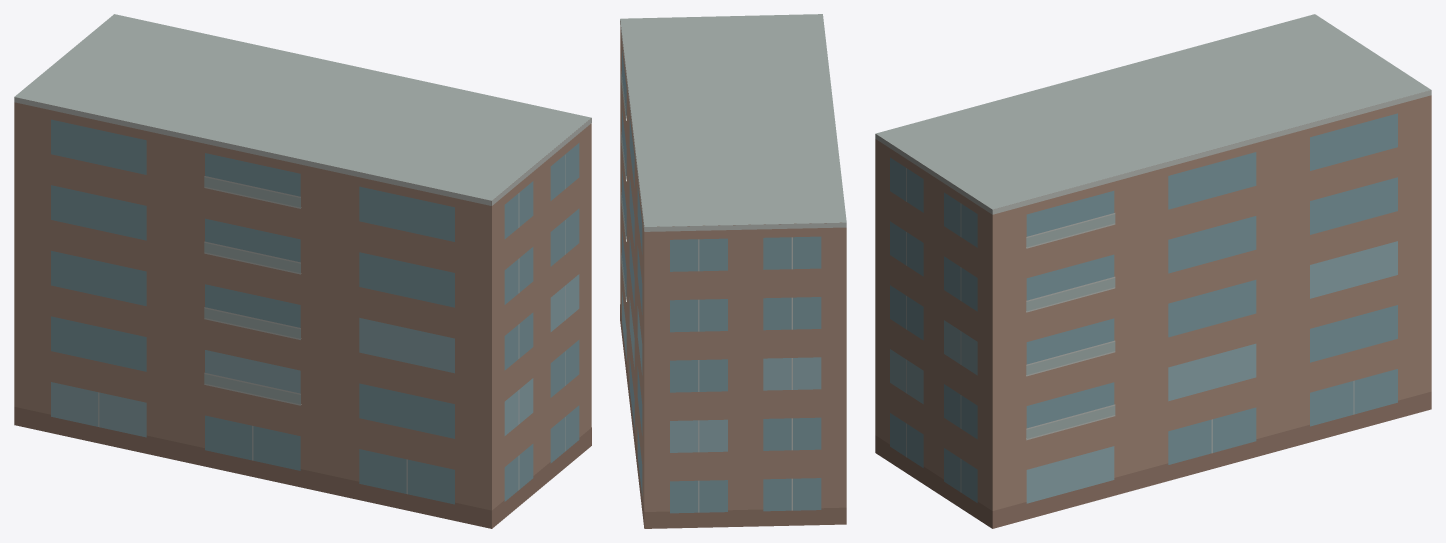
File: survey-upis-32729918.glb
3 renders of one model, left to right at view 1: azimuth 30°, elevation 25°; view 2: azimuth 150°, elevation 25°; view 3: azimuth 270°, elevation 25°, orthographic. The views are drawn at different scales.
Parts seen in each view (by area): view 1: survey-upis-32729918.tmp; view 2: survey-upis-32729918.tmp; view 3: survey-upis-32729918.tmp.
Boxes of the visible parts, x1,y1,x2,y2 form: survey-upis-32729918.tmp: (14,14,591,528); survey-upis-32729918.tmp: (620,14,846,528); survey-upis-32729918.tmp: (875,14,1431,528).
Bounding box in the file's own units: 19.85 × 15.1 × 23.85.
